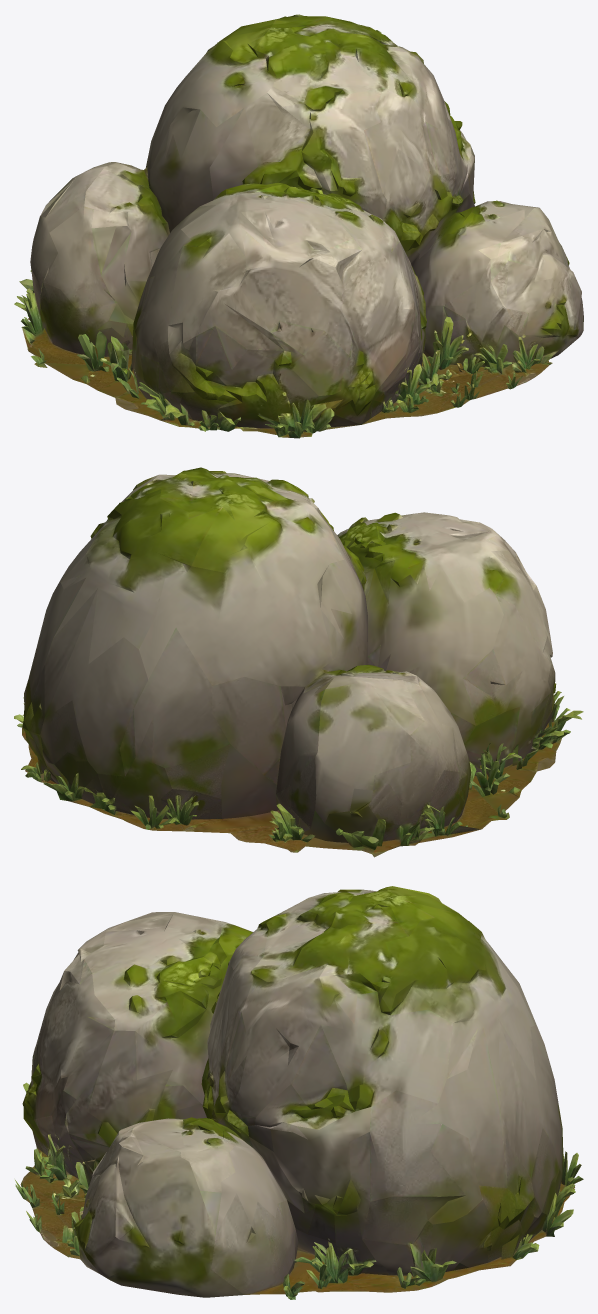
The model's file is camp_rocher.glb.
3 renders of one model, top to bottom at view 1: azimuth 30°, elevation 25°; view 2: azimuth 150°, elevation 25°; view 3: azimuth 270°, elevation 25°, orthographic. The views are drawn at different scales.
Bounding box in the file's own units: 1.89 × 1 × 1.78.
1 material, 1 textured.
